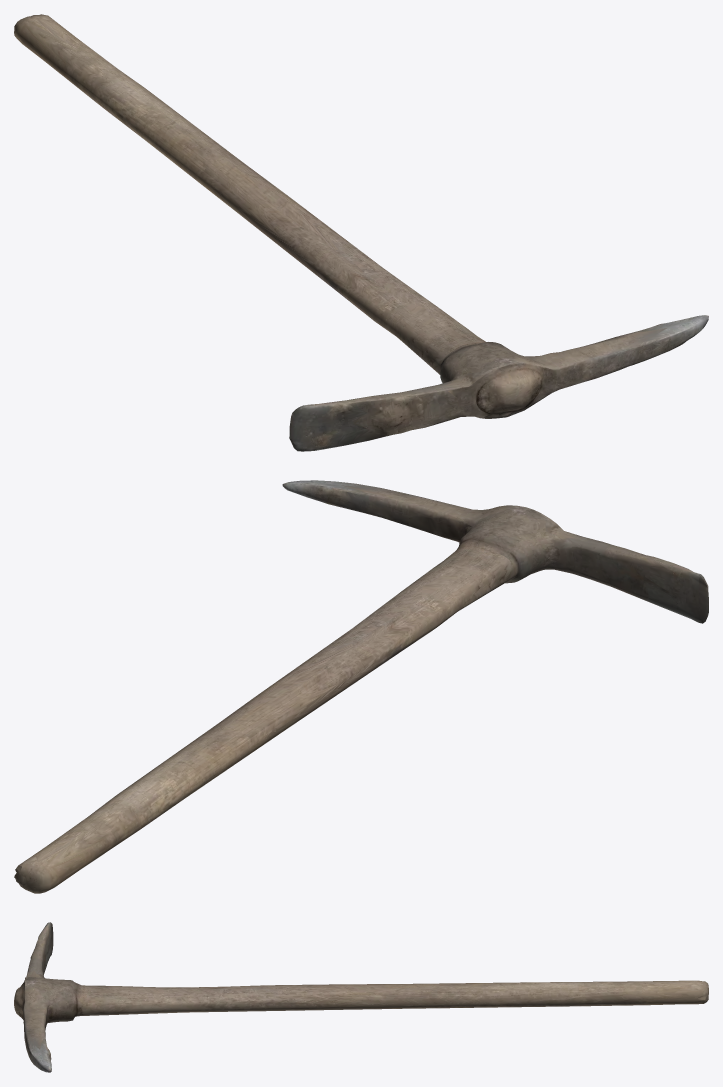
The model's file is pickaxe_old.glb.
The picture shows the model from 3 angles, top to bottom: view 1: azimuth 30°, elevation 25°; view 2: azimuth 150°, elevation 25°; view 3: azimuth 270°, elevation 25°; orthographic projection. The views are drawn at different scales.
Visible parts, largest first — view 1: pickaxe_old; view 2: pickaxe_old; view 3: pickaxe_old.
Part boxes in pixels (x1,y1,x2,y2): pickaxe_old: [14, 14, 708, 451]; pickaxe_old: [14, 480, 708, 893]; pickaxe_old: [14, 922, 708, 1072].
Bounding box in the file's own units: 0.5497 × 0.0691 × 1.12.
Materials: 1 (1 with a texture image).
